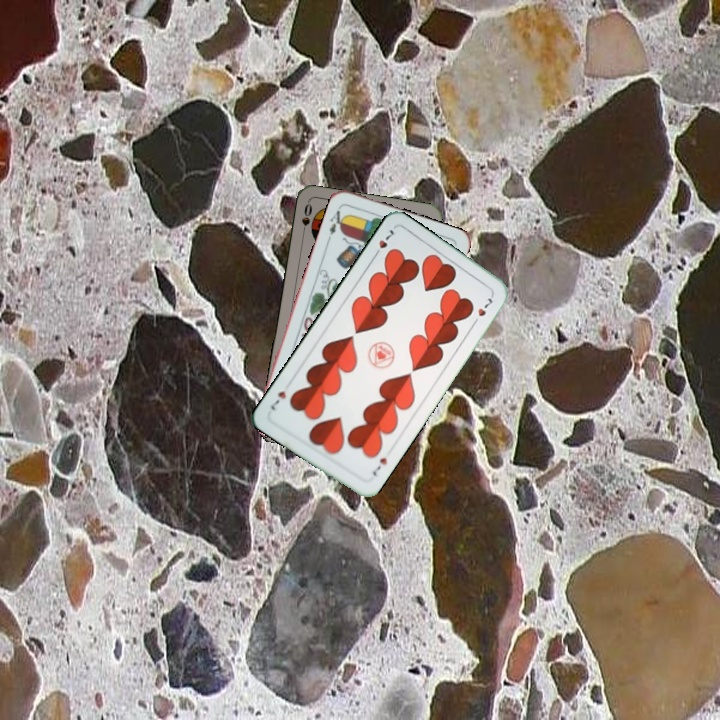EA: (324, 203, 348, 242)
H7: (369, 225, 397, 260), (369, 453, 390, 479)
SO: (298, 199, 315, 240)
